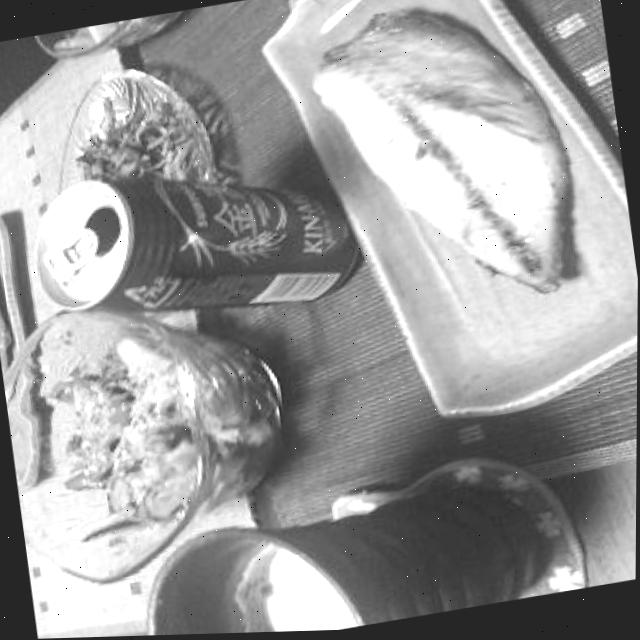熟制海鲜: (296, 0, 606, 336)
